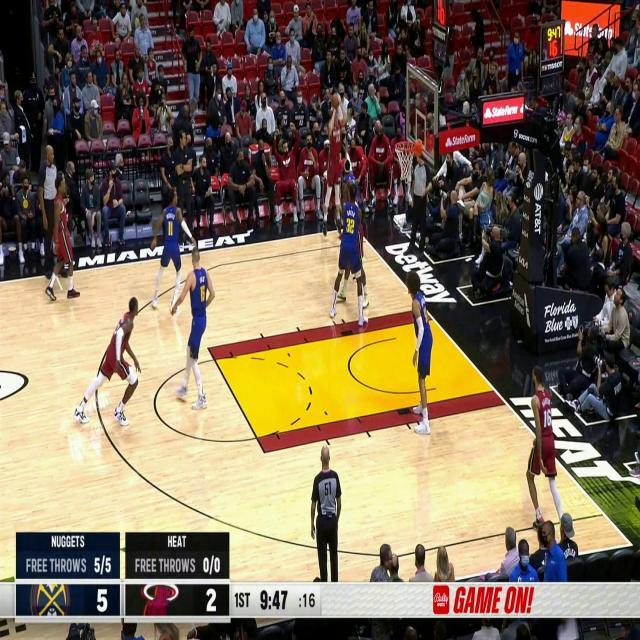rim: (331, 93, 339, 109)
